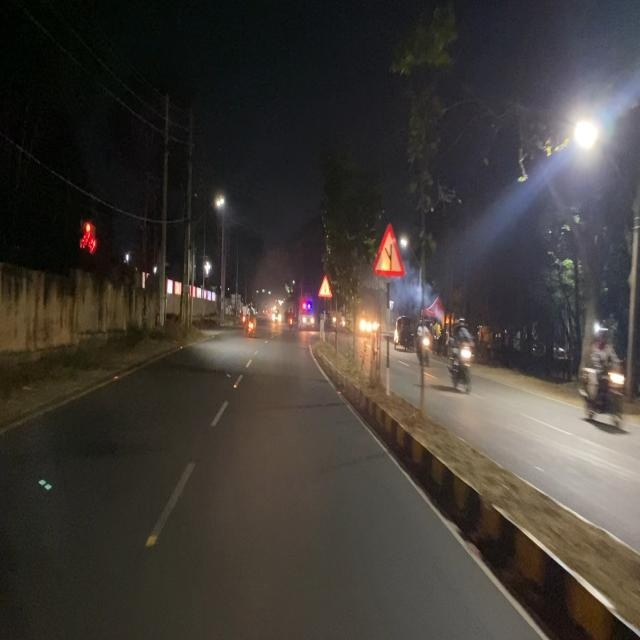bien_nguy_hiem: (372, 220, 406, 278)
